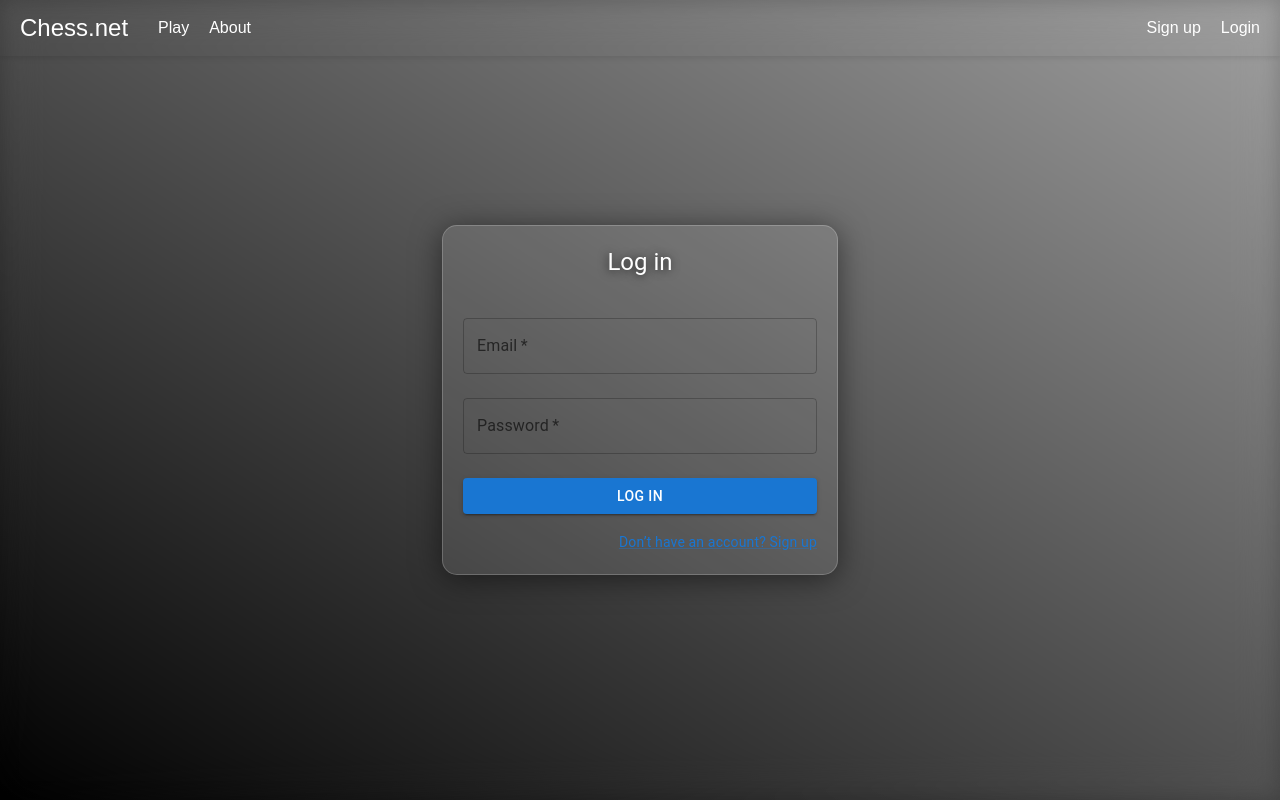
Test case: Login Form E2E Tests › should show server error on failed login
Type "test@example.com" into the field named "email". click: {"x": 640, "y": 346}
box: [463,318,817,374]
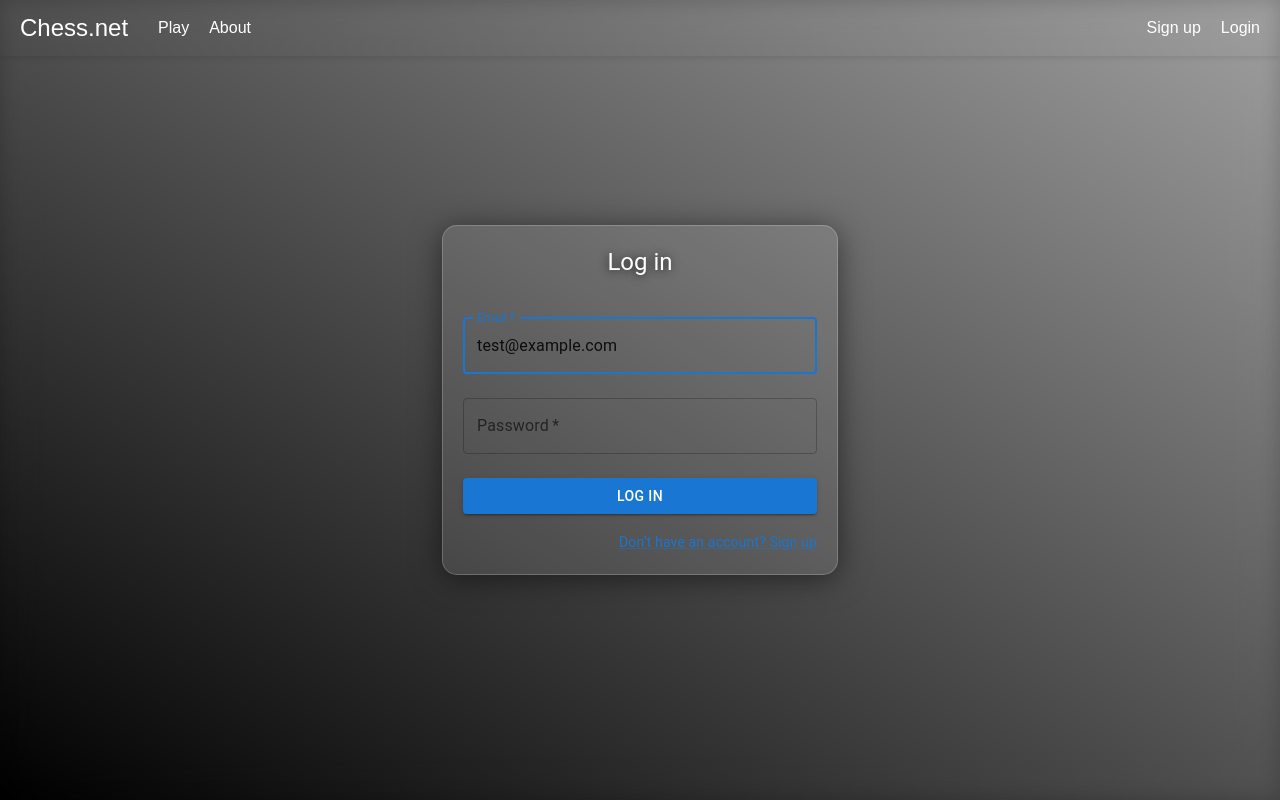
Type "Wrongpassword1!" into the password field named "password". click: {"x": 640, "y": 426}
box: [463,398,817,454]
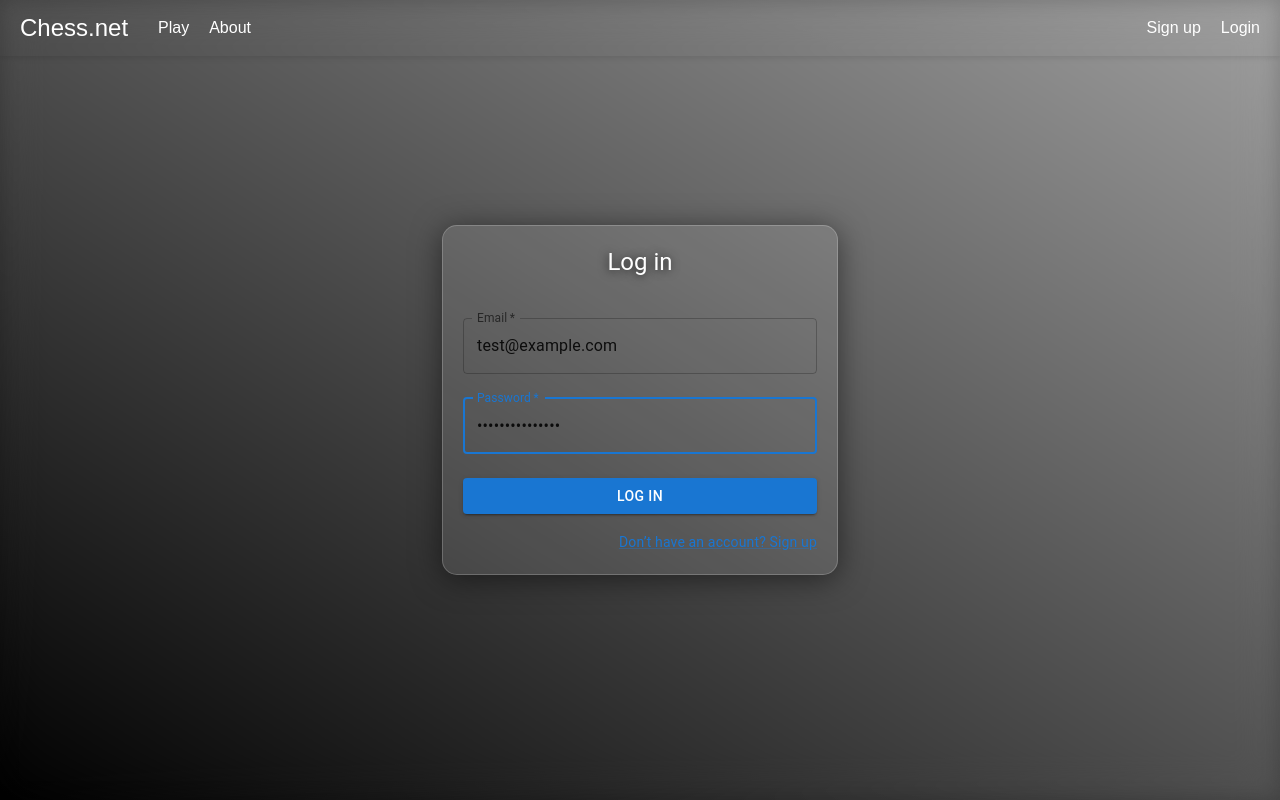
Click the submit button. click: {"x": 640, "y": 497}
box: [463,478,817,515]
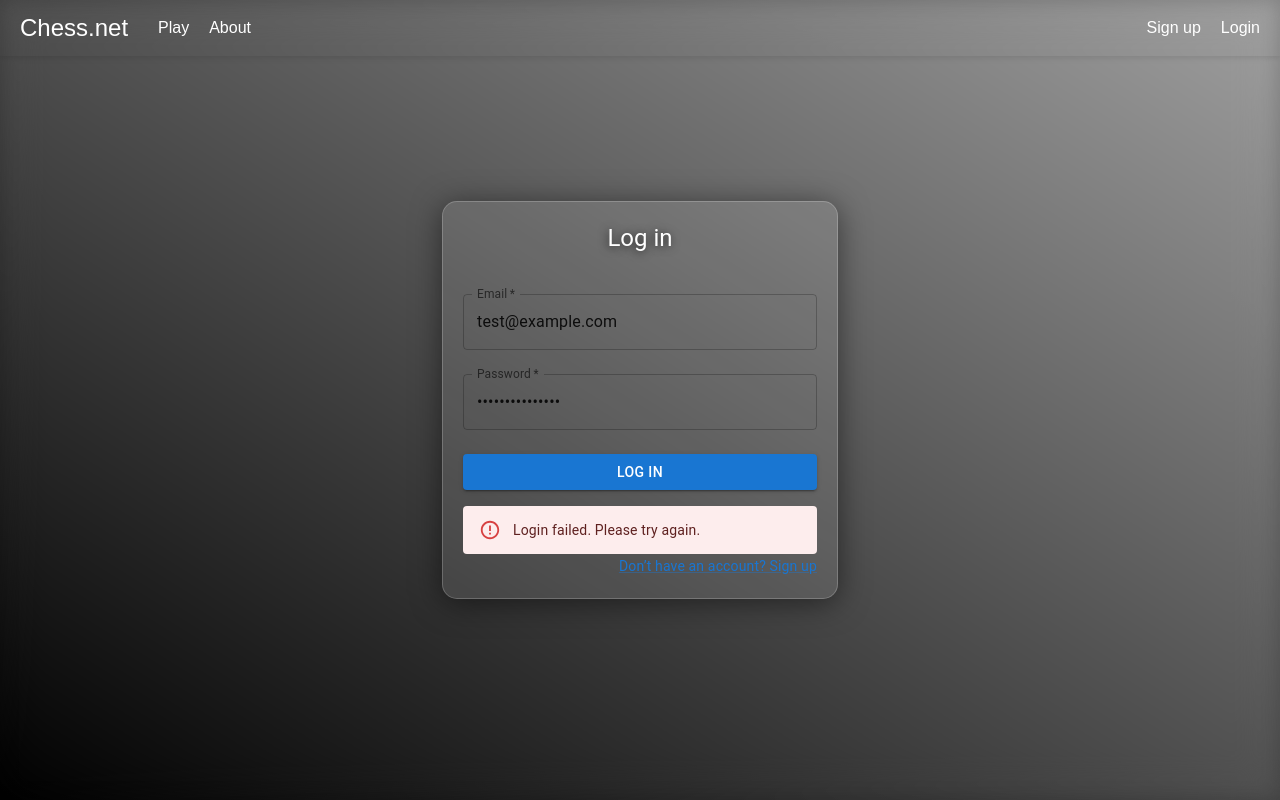
Expected: the text "Login failed" is shown, [513,522,700,538]
